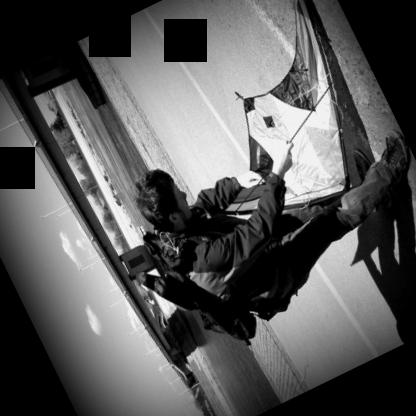backpack: (141, 269, 260, 340)
